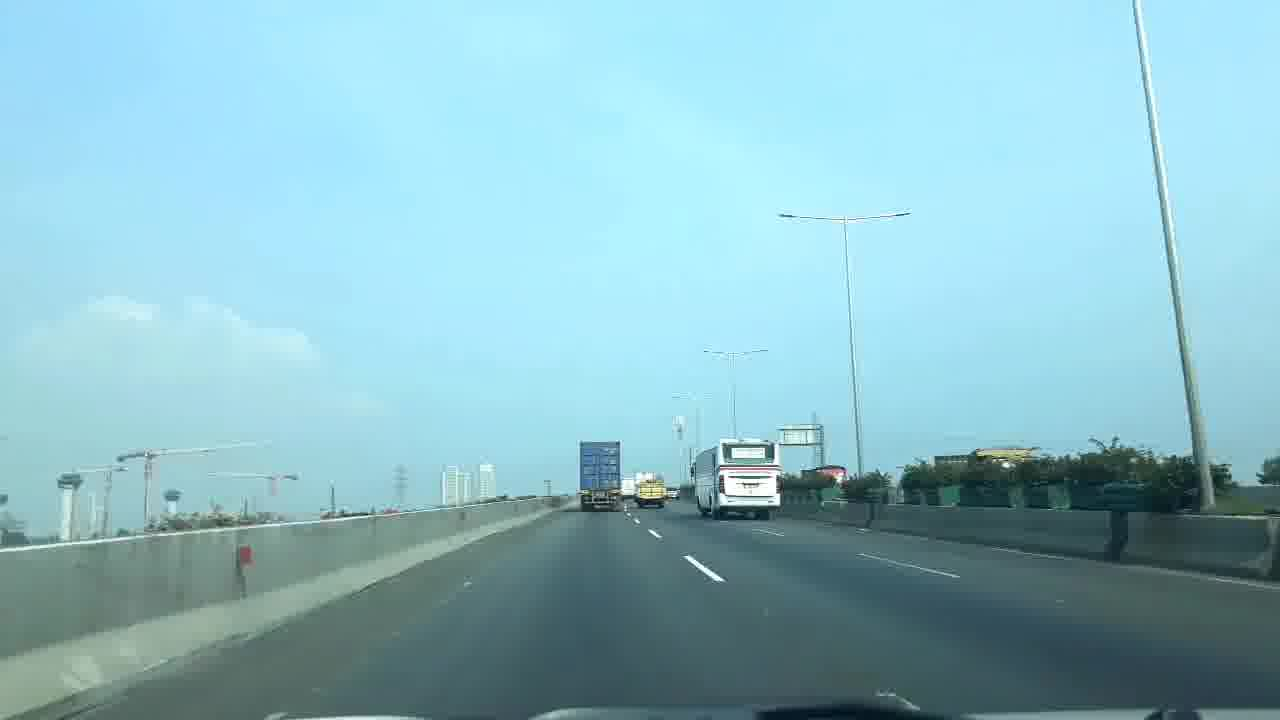plate_positive: (744, 484, 758, 489)
